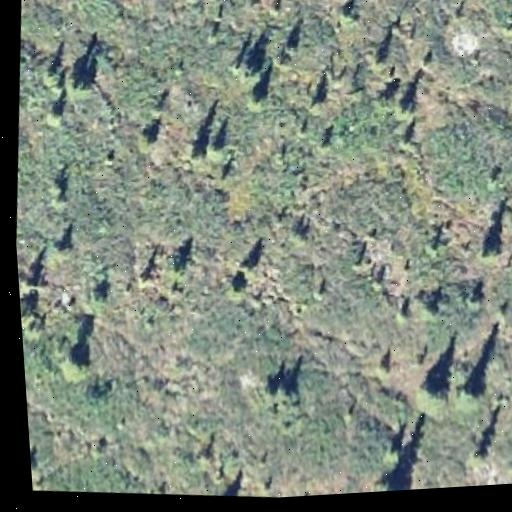tree-top: (415, 377, 455, 419), (58, 341, 95, 382), (380, 429, 415, 467), (264, 371, 304, 402), (62, 68, 97, 102), (240, 85, 274, 115), (456, 376, 486, 410), (472, 234, 503, 265), (235, 53, 265, 83), (371, 468, 408, 492), (390, 92, 418, 123), (204, 135, 231, 162), (225, 274, 252, 301), (136, 127, 162, 154), (185, 140, 207, 169), (48, 235, 73, 259)
